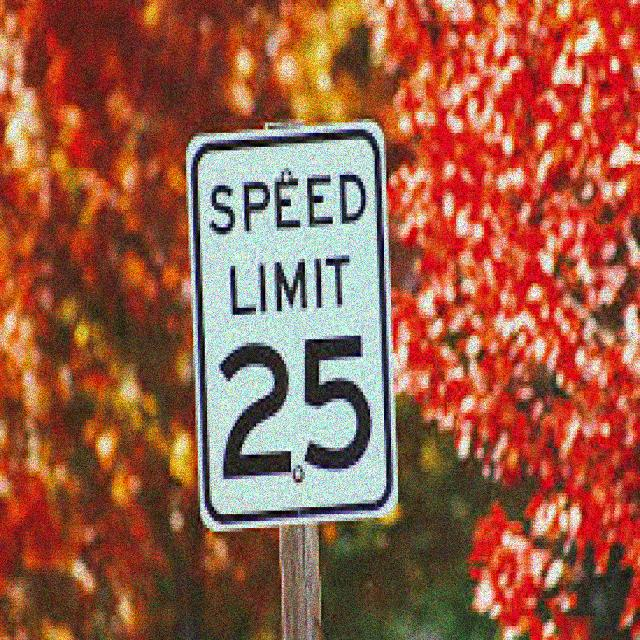speedLimit25: (178, 117, 406, 537)
